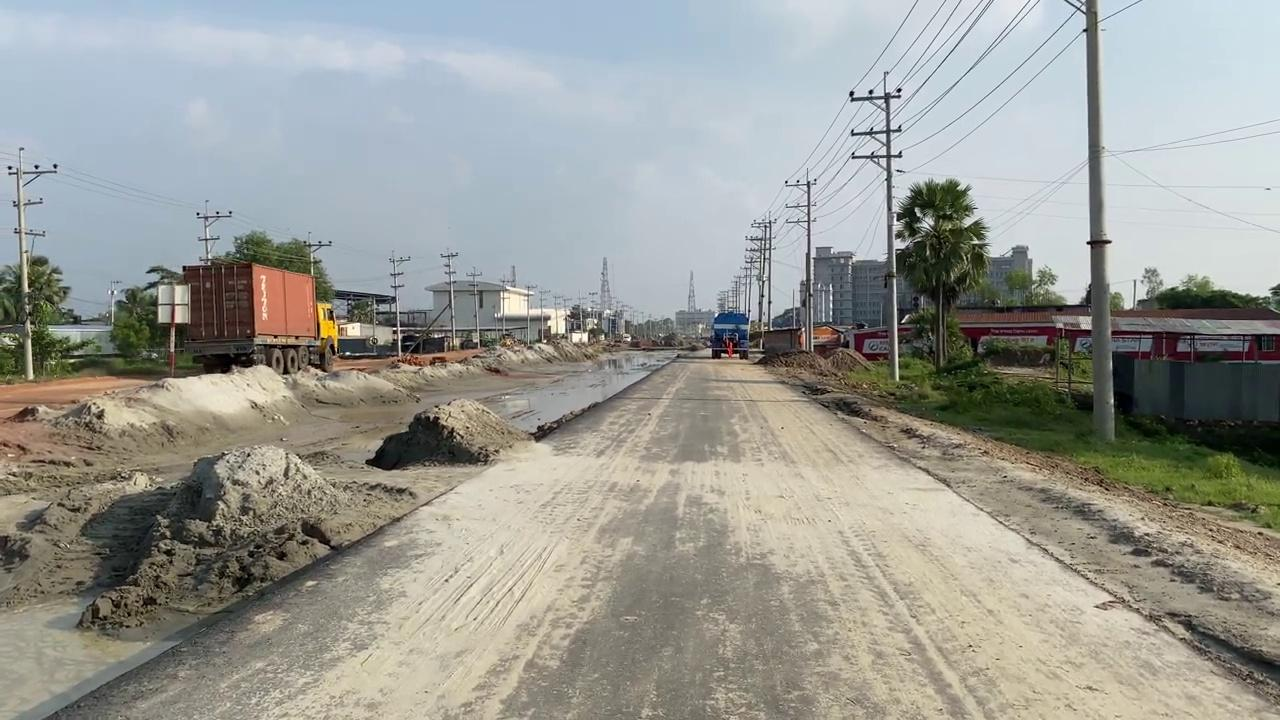Pole: (848, 70, 903, 381), (1083, 0, 1115, 443)
Sidewalk: (0, 346, 685, 718)
Traffic-sign: (893, 176, 992, 371)
Tree: (177, 259, 334, 374), (709, 310, 750, 359)
